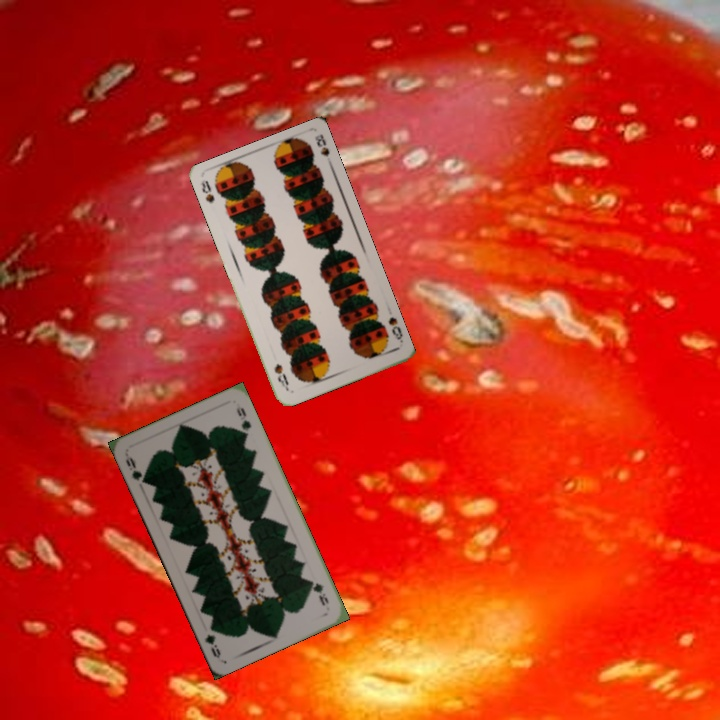G9: (121, 450, 150, 486), (306, 575, 331, 608)
S8: (384, 313, 406, 346), (197, 176, 217, 206)
